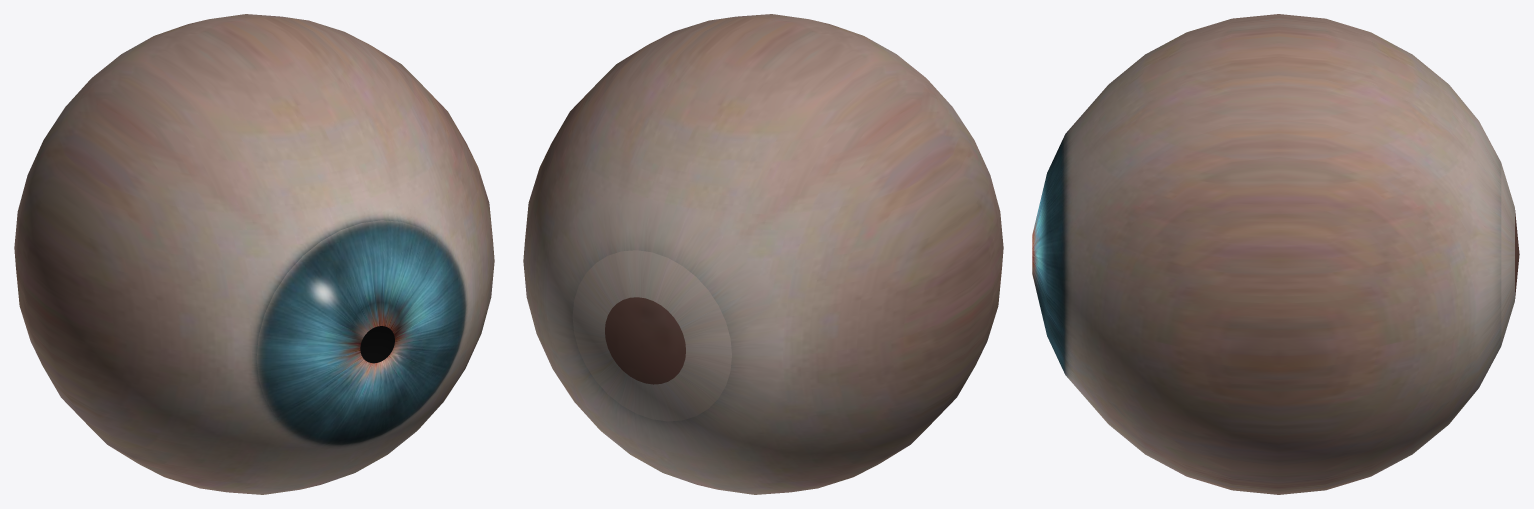
Rendered from eye_model.glb.
3 views of the same model, side by side, from view 1: azimuth 30°, elevation 25°; view 2: azimuth 150°, elevation 25°; view 3: azimuth 270°, elevation 25° (orthographic).
Parts seen in each view (by area): view 1: Eye; view 2: Eye; view 3: Eye.
Part boxes in pixels (x1,y1,x2,y2): Eye: [14, 14, 494, 494]; Eye: [523, 14, 1003, 494]; Eye: [1032, 14, 1519, 494].
Bounding box in the file's own units: 2 × 2 × 2.02.
Materials: 3 (3 with a texture image).
